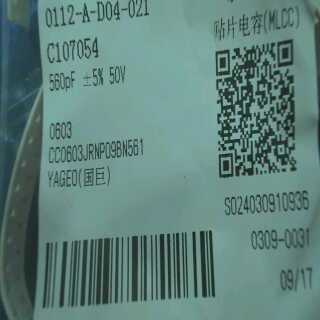560pF: (48, 66, 80, 94)
